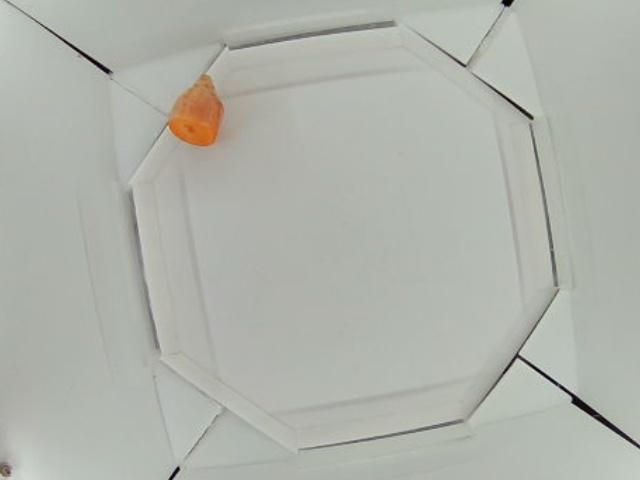Carrot: (167, 75, 224, 148)
